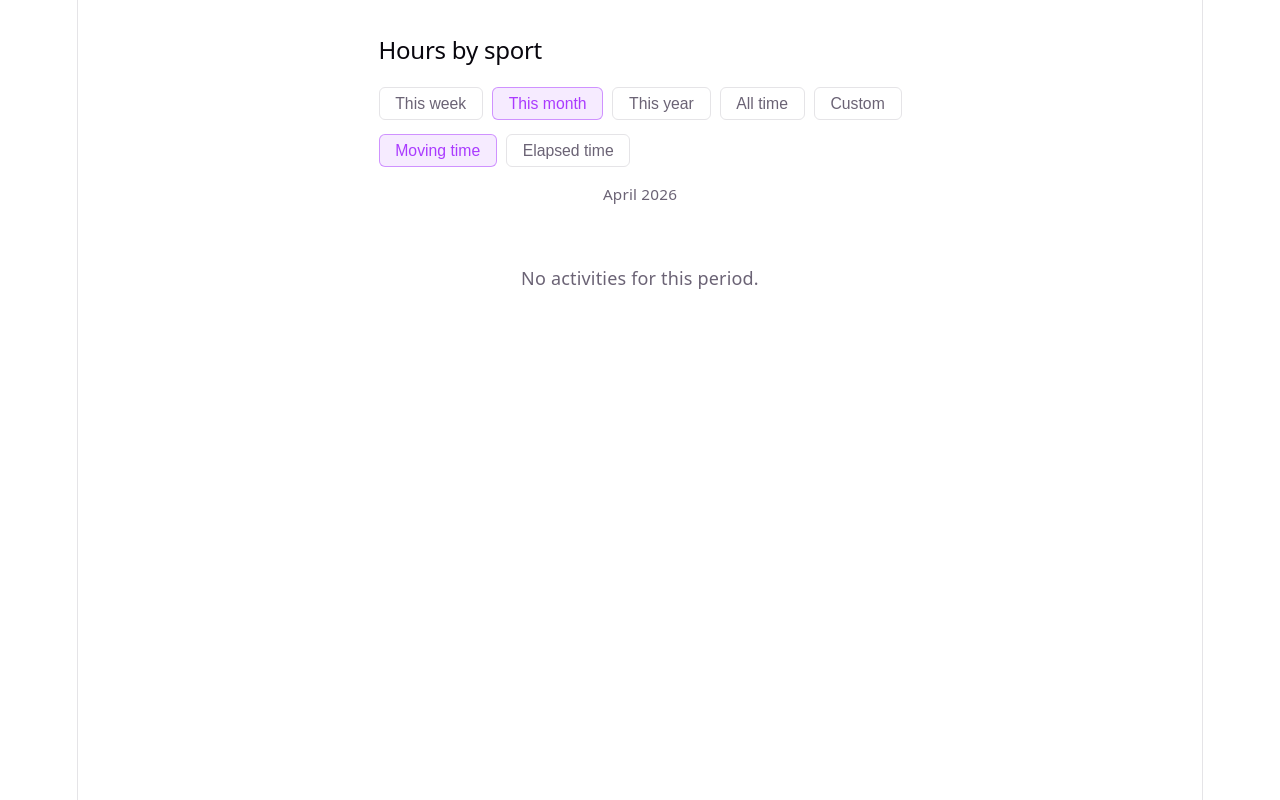
Scenario: Dashboard › shows formatted custom range label when custom dates are set
The width and height of the screenshot is (1280, 800).
Click the button "Custom" at (858, 104), box 814,87 -> 902,120
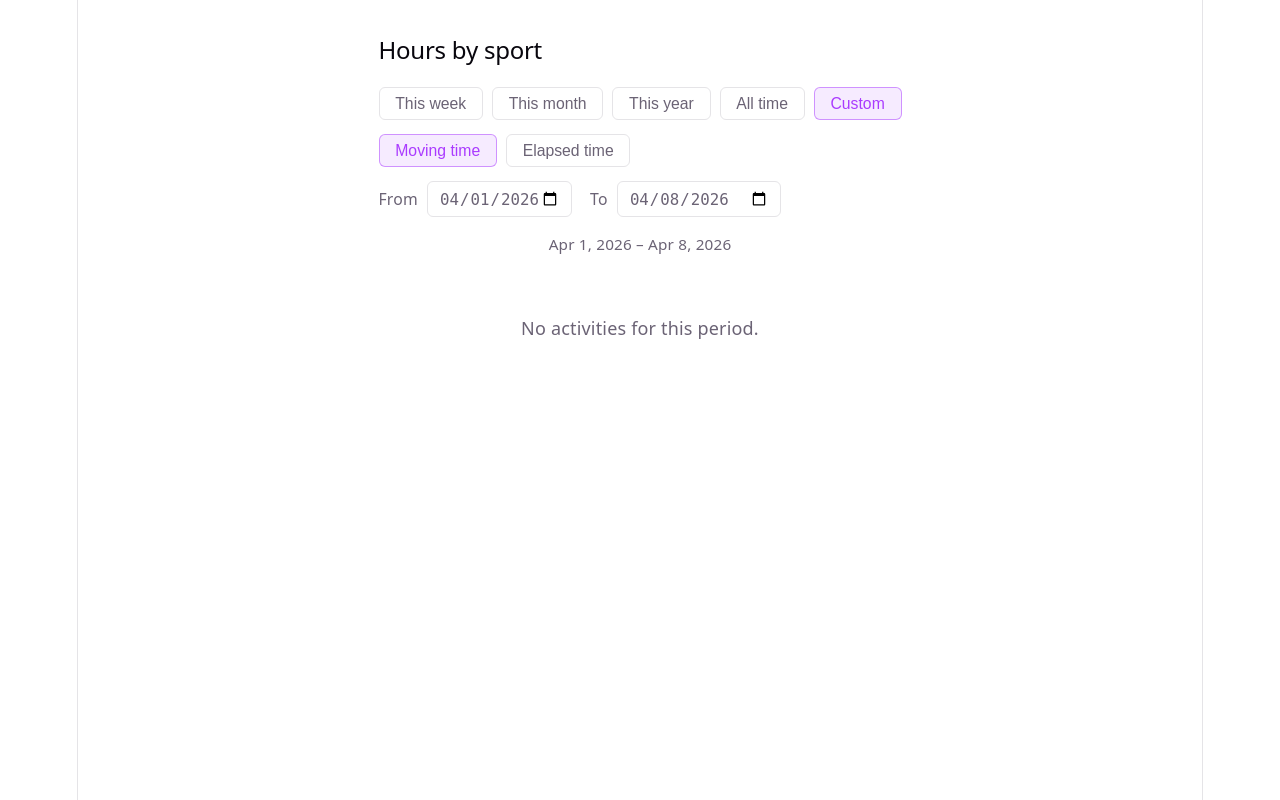
Type "2026-03-01" into the date field showing "From" at (499, 199), box 427,181 -> 572,217
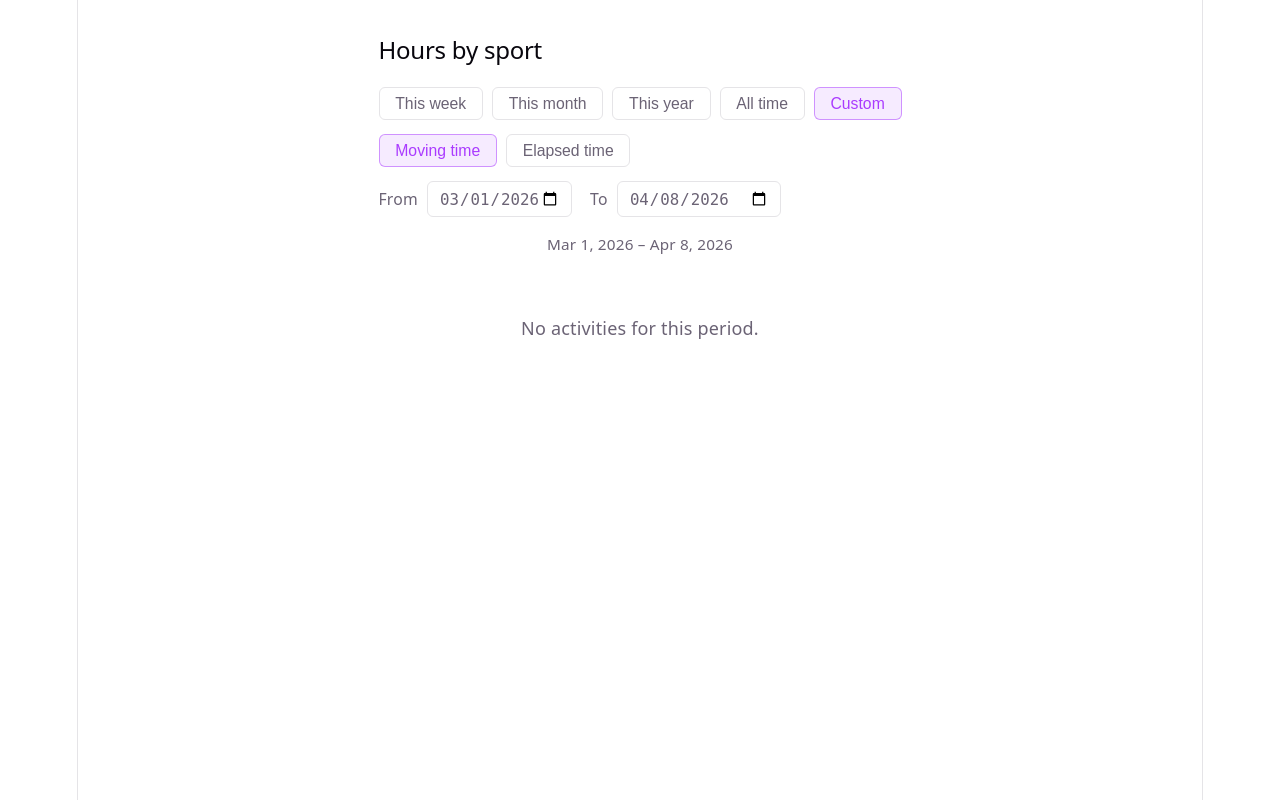
Type "2026-03-31" into the date field showing "To" at (699, 199), box 617,181 -> 781,217
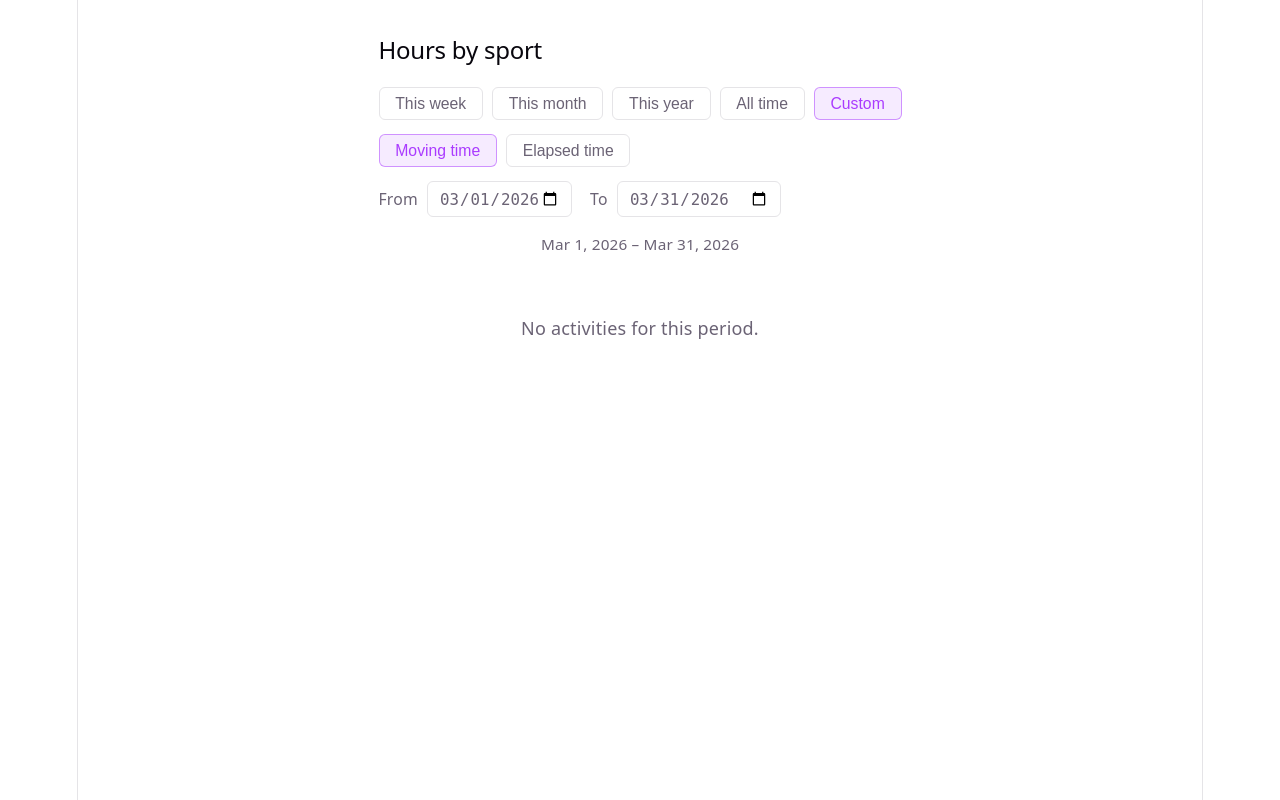
Now the text "Mar 1, 2026 – Mar 31, 2026" is shown, box 541,234 -> 739,254
